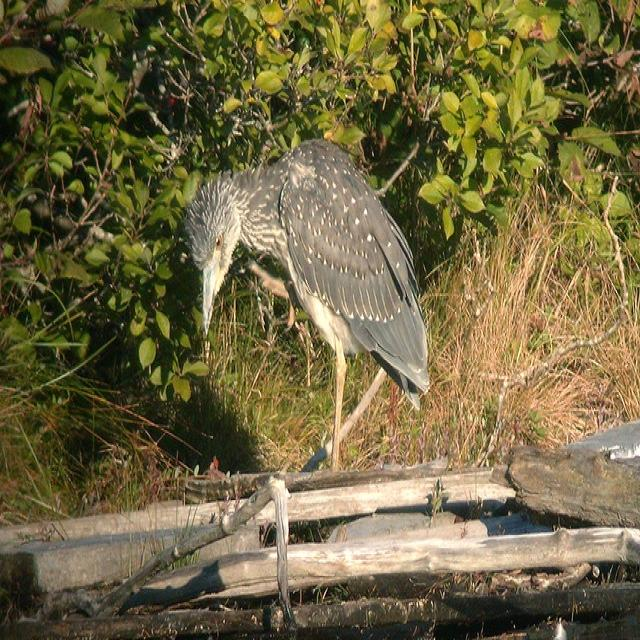bird: (183, 121, 440, 474)
